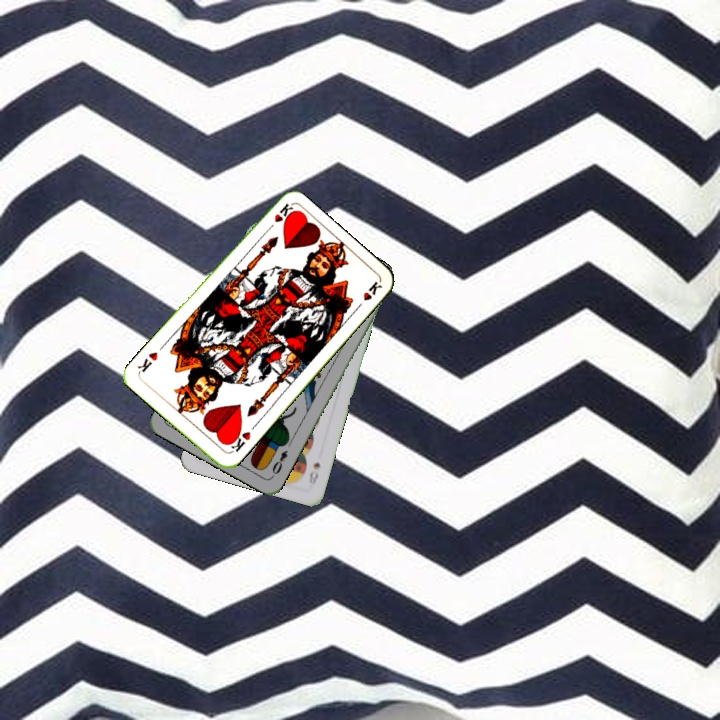EO: (268, 446, 290, 480)
HK: (261, 200, 294, 235), (224, 426, 253, 456)
S8: (305, 458, 323, 487)
